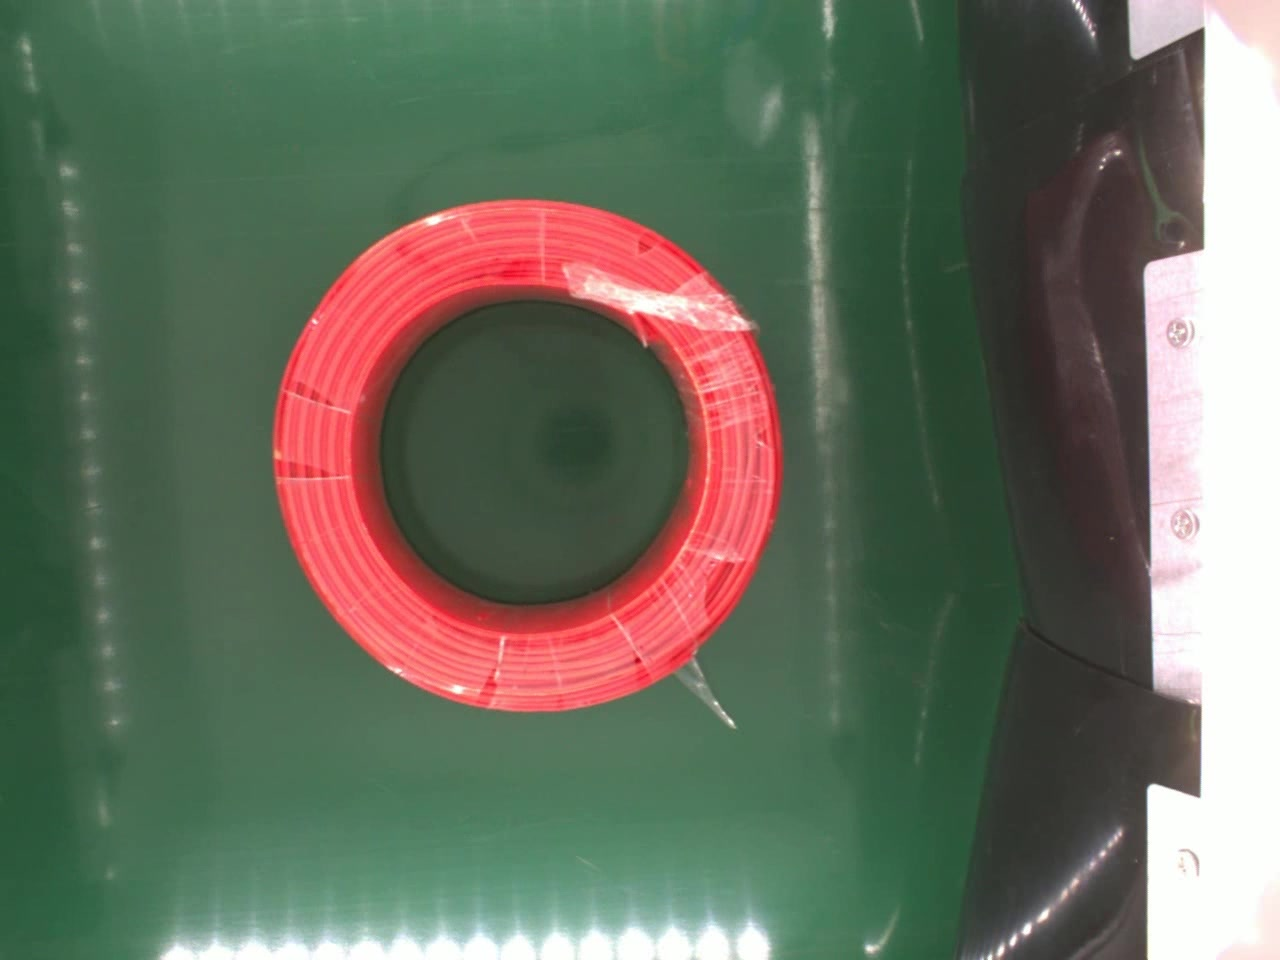red: (266, 192, 781, 711)
